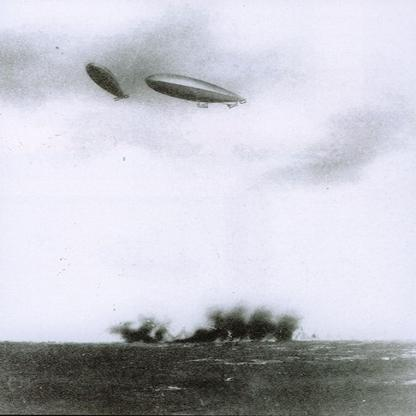Airship: (143, 70, 254, 117), (80, 57, 136, 110)
